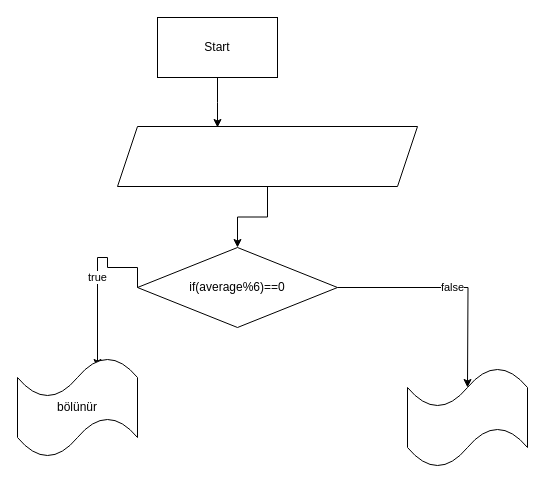
This 545x485 diagram has some shape labels left out. Each missing label, with the centre of its shape:
"bölünmür" belongs at point (467, 417).
"number1, number2, number3 average=(number1+number2+number3)/3" belongs at point (267, 156).
